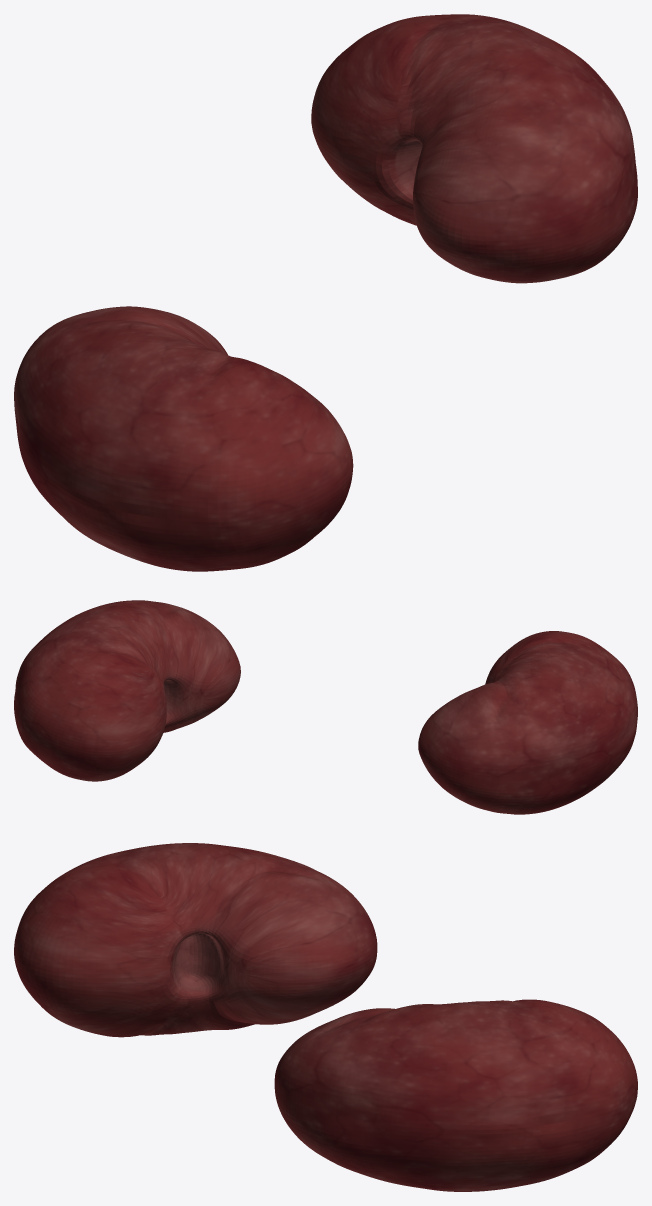
The model's file is Kidneys.glb.
3 views of the same model, one above another, from view 1: azimuth 30°, elevation 25°; view 2: azimuth 150°, elevation 25°; view 3: azimuth 270°, elevation 25° (orthographic). The views are drawn at different scales.
Visible parts, largest first — view 1: ZBrushPolyMesh3D1; view 2: ZBrushPolyMesh3D1; view 3: ZBrushPolyMesh3D1.
Boxes of the visible parts, x1,y1,x2,y2 form: ZBrushPolyMesh3D1: (14,14,637,571); ZBrushPolyMesh3D1: (14,600,637,814); ZBrushPolyMesh3D1: (14,843,637,1191).
Size of the model in its own units: 81.97 by 28.8 by 72.96.
Materials: 1 (1 with a texture image).
